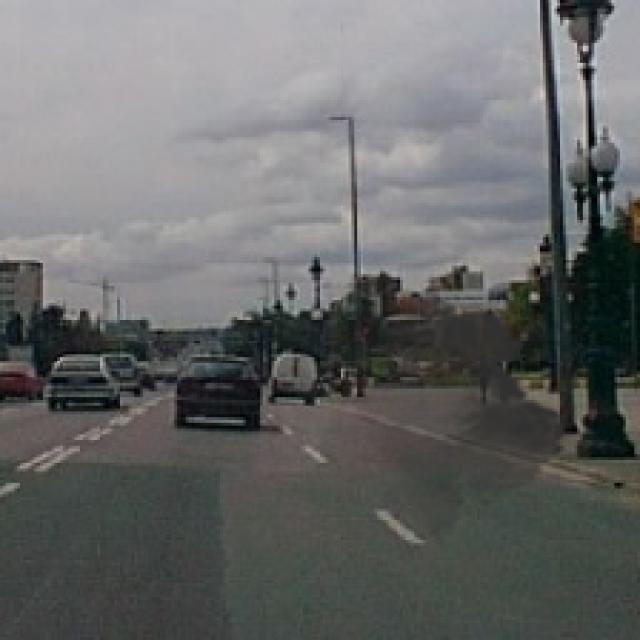Smoke: (312, 288, 577, 543)
